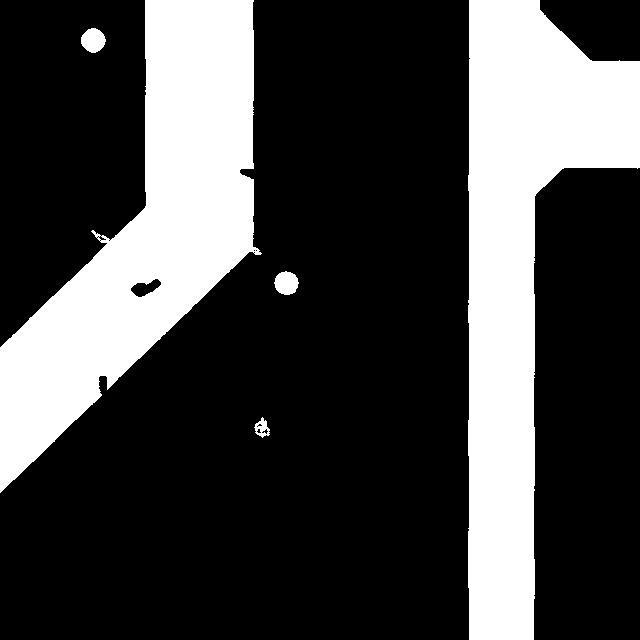copper: (121, 269, 170, 306)
mousebite: (81, 220, 119, 252), (238, 236, 271, 264)
pin-hole: (244, 407, 279, 447)
spur: (89, 366, 116, 406), (230, 159, 266, 188)
